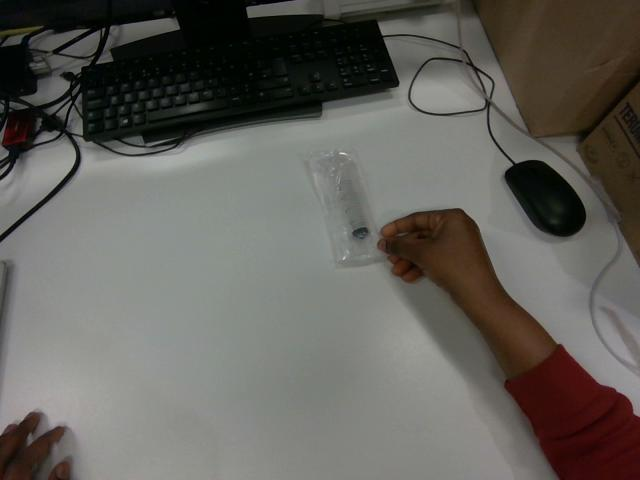syringe: (303, 150, 383, 266)
